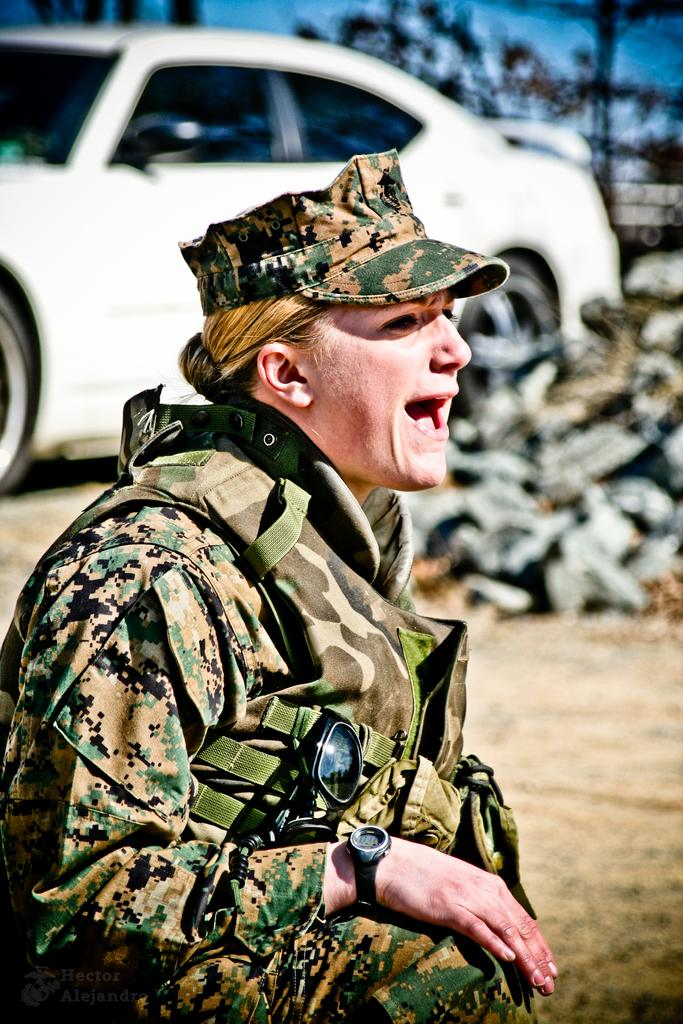Hat: (176, 143, 510, 315)
